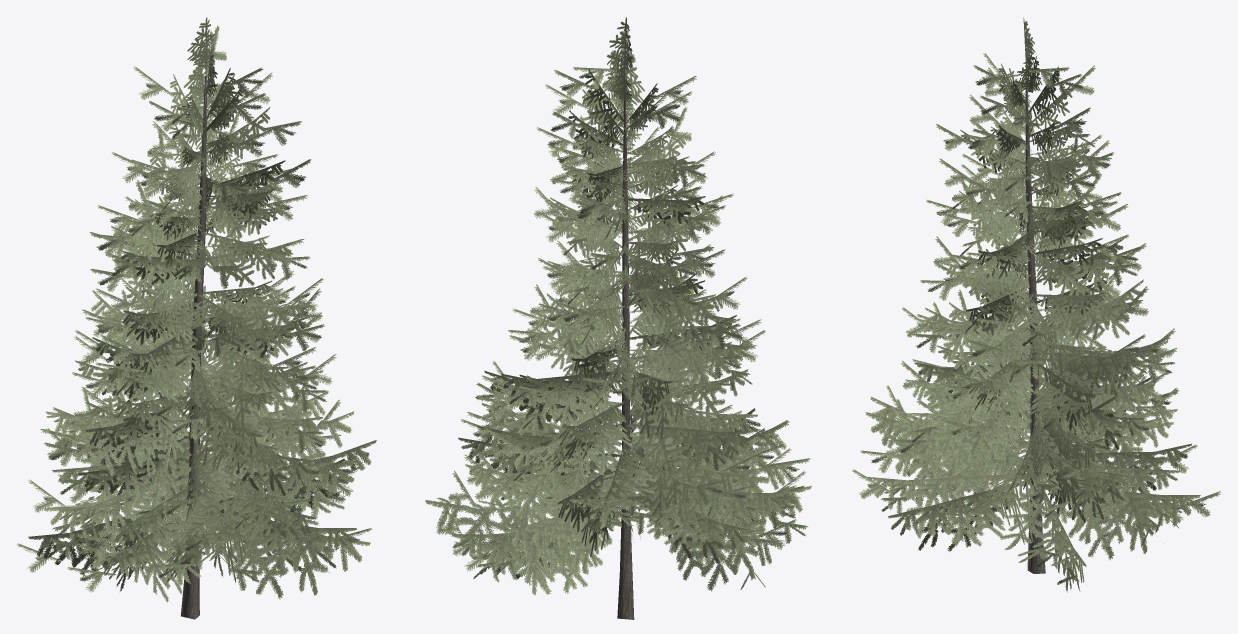
Rendered from Pseudotsuga_Menziesii_Autumn_Young.glb.
3 renders of one model, left to right at view 1: azimuth 30°, elevation 25°; view 2: azimuth 150°, elevation 25°; view 3: azimuth 270°, elevation 25°, orthographic. The views are drawn at different scales.
Visible parts, largest first — view 1: Pseudotsuga_Menziesii_Autumn_Young__LOD3; view 2: Pseudotsuga_Menziesii_Autumn_Young__LOD3; view 3: Pseudotsuga_Menziesii_Autumn_Young__LOD3.
Part boxes in pixels (x1,y1,x2,y2): Pseudotsuga_Menziesii_Autumn_Young__LOD3: (16,17,376,619); Pseudotsuga_Menziesii_Autumn_Young__LOD3: (425,17,811,619); Pseudotsuga_Menziesii_Autumn_Young__LOD3: (852,17,1220,592).
Size of the model in its own units: 9.48 by 15.33 by 9.26.
Materials: 2 (2 with a texture image).
